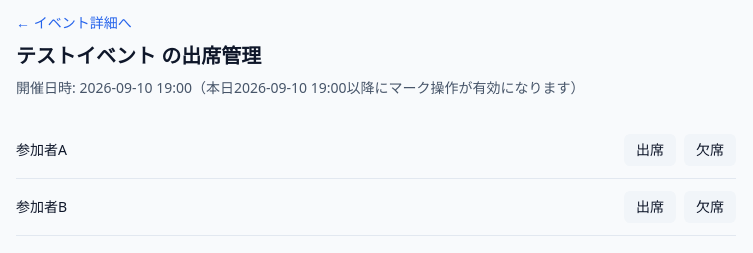
Test case: AttendancePage › isMarkPendingは操作対象の行のみに反映され、他の行のボタンには影響しないこと
Click the button "出席" in the row of "参加者A": [650, 150] box [624,134,676,166]
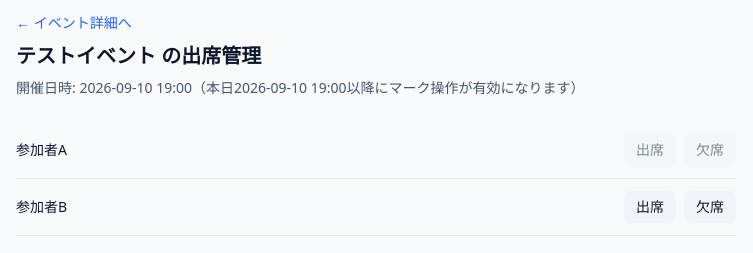
Expected: the button "出席" in the row of "参加者B" is enabled, [624,191,676,223]
Result: the button "出席" in the row of "参加者A" is disabled at [624,134,676,166]
